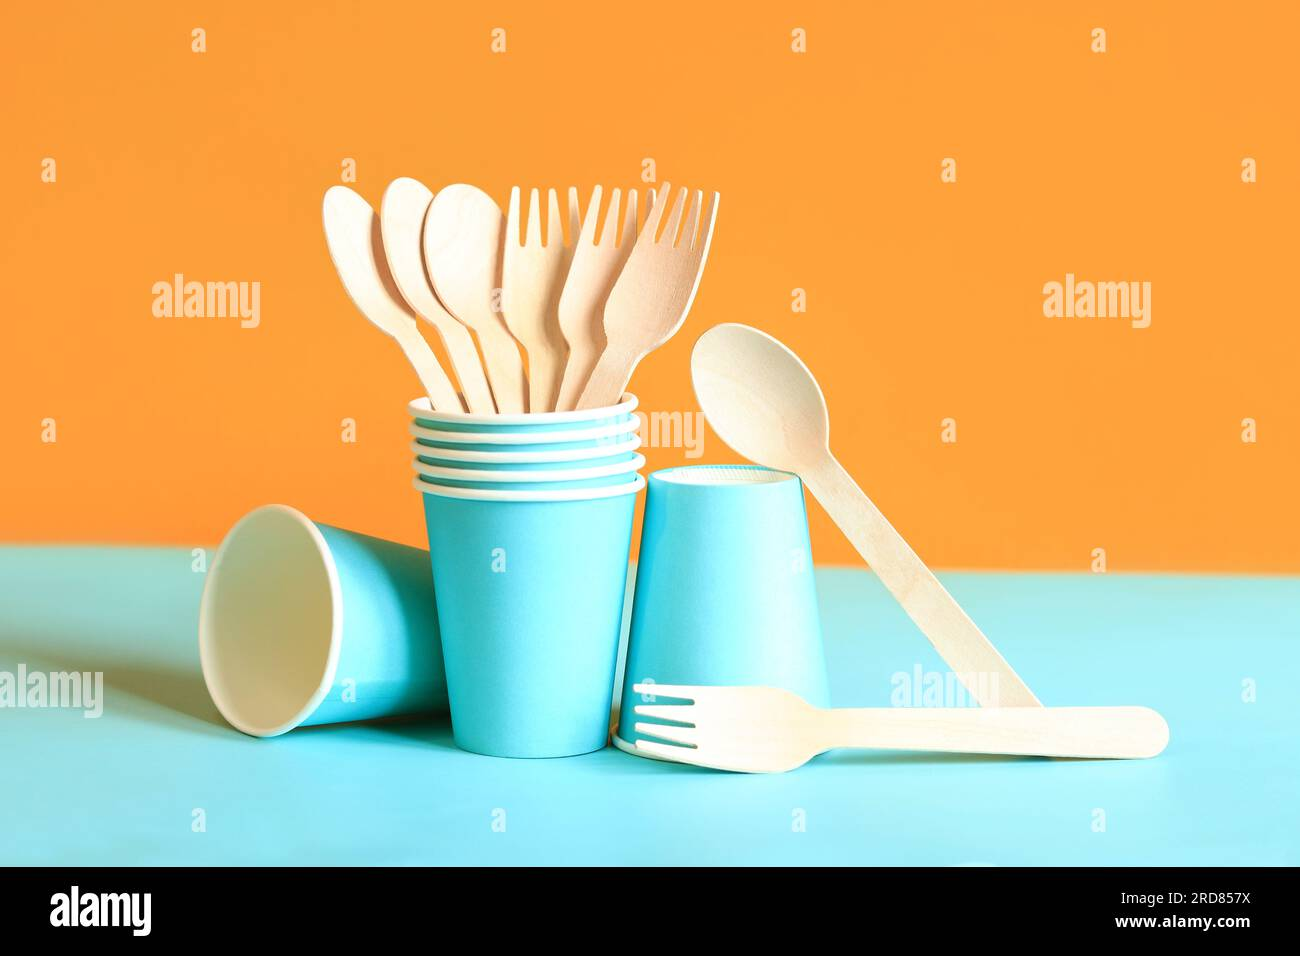Wooden Utensils: (694, 276, 1220, 730), (583, 648, 1183, 808), (358, 151, 711, 418)
